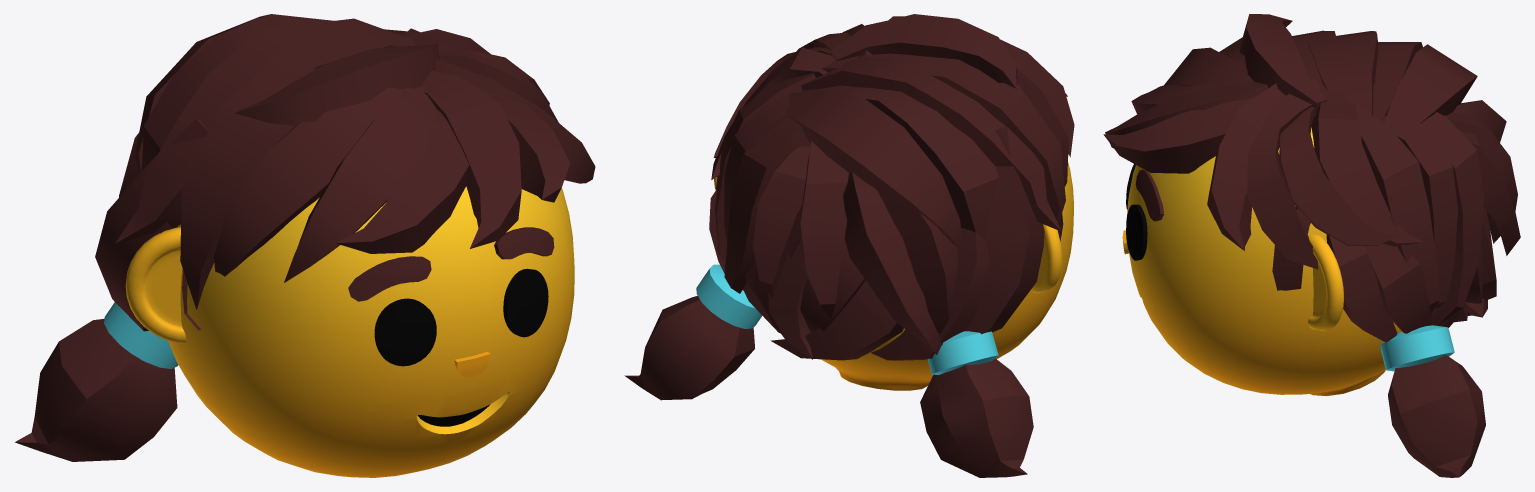
The model's file is girl.fbx.
3 renders of one model, left to right at view 1: azimuth 30°, elevation 25°; view 2: azimuth 150°, elevation 25°; view 3: azimuth 270°, elevation 25°, orthographic. The views are drawn at different scales.
Parts seen in each view (by area): view 1: Cube.179, Roundcube.005, Cube.197, Circle.292, ears.003, Circle.300, Cube.198, Circle.298; view 2: Cube.179, Cube.197, Roundcube.005, Cube.198, ears.003; view 3: Cube.179, Roundcube.005, Cube.197, ears.003, Cube.198, Circle.292, Circle.300.
Boxes of the visible parts, <box> form: Cube.179: <box>95,14,595,331</box>; Roundcube.005: <box>168,186,574,477</box>; Cube.197: <box>15,318,177,461</box>; Circle.292: <box>374,268,548,366</box>; ears.003: <box>125,227,186,343</box>; Circle.300: <box>348,227,554,301</box>; Cube.198: <box>104,302,178,368</box>; Circle.298: <box>454,351,490,377</box>; Cube.179: <box>709,14,1074,360</box>; Cube.197: <box>624,296,1033,477</box>; Roundcube.005: <box>821,162,1073,390</box>; Cube.198: <box>696,264,998,374</box>; ears.003: <box>714,177,1061,293</box>; Cube.179: <box>1103,14,1520,342</box>; Roundcube.005: <box>1127,127,1401,396</box>; Cube.197: <box>1388,312,1485,477</box>; ears.003: <box>1307,234,1343,331</box>; Cube.198: <box>1380,325,1454,371</box>; Circle.292: <box>1126,164,1147,260</box>; Circle.300: <box>1135,169,1163,221</box>.
Bounding box in the file's own units: 205 × 171 × 182.
Materials: 2 (2 with a texture image).
